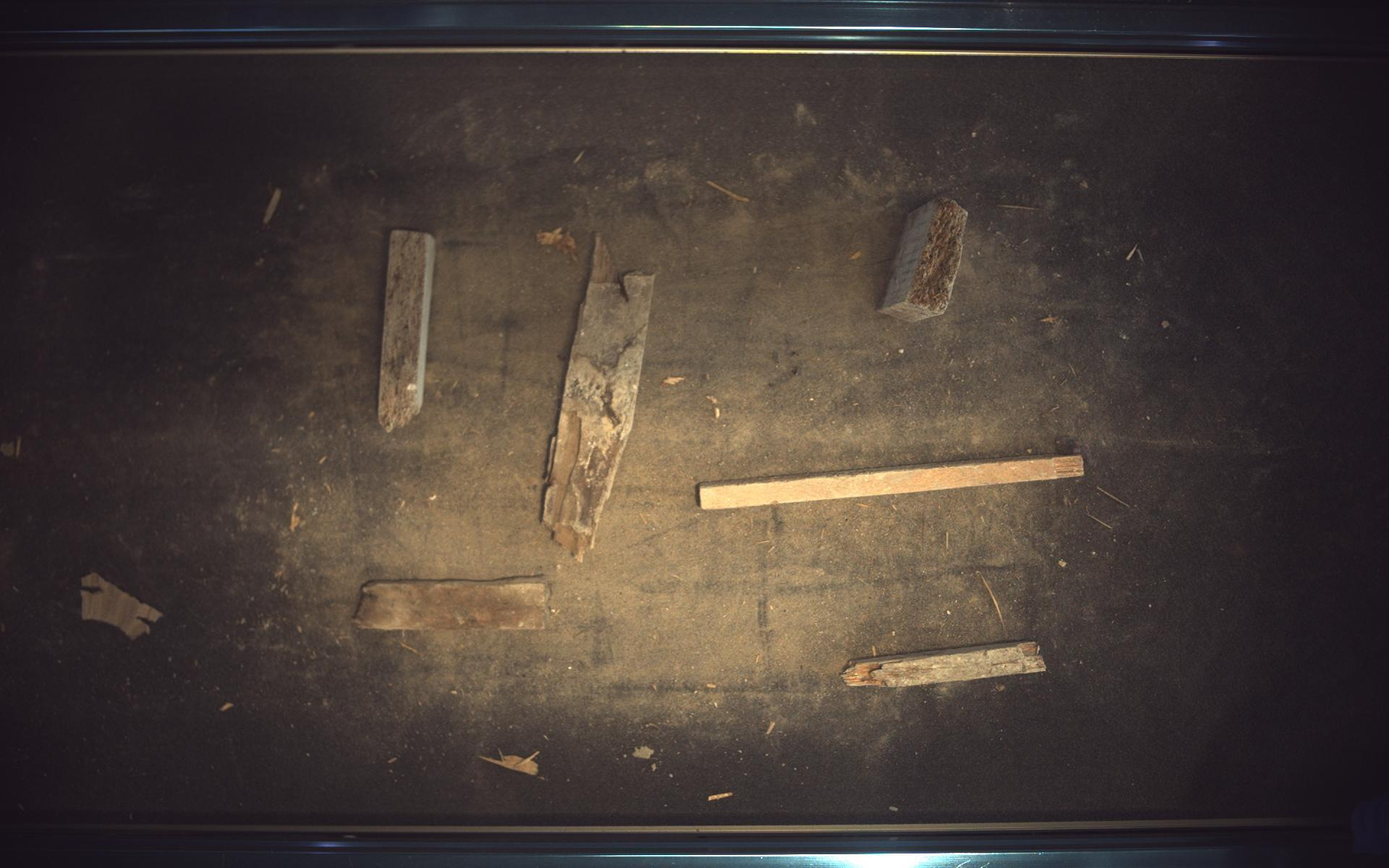wood: (543, 234, 655, 562), (700, 455, 1086, 510), (378, 229, 436, 432), (881, 197, 970, 322), (353, 577, 549, 631), (843, 642, 1048, 688)
